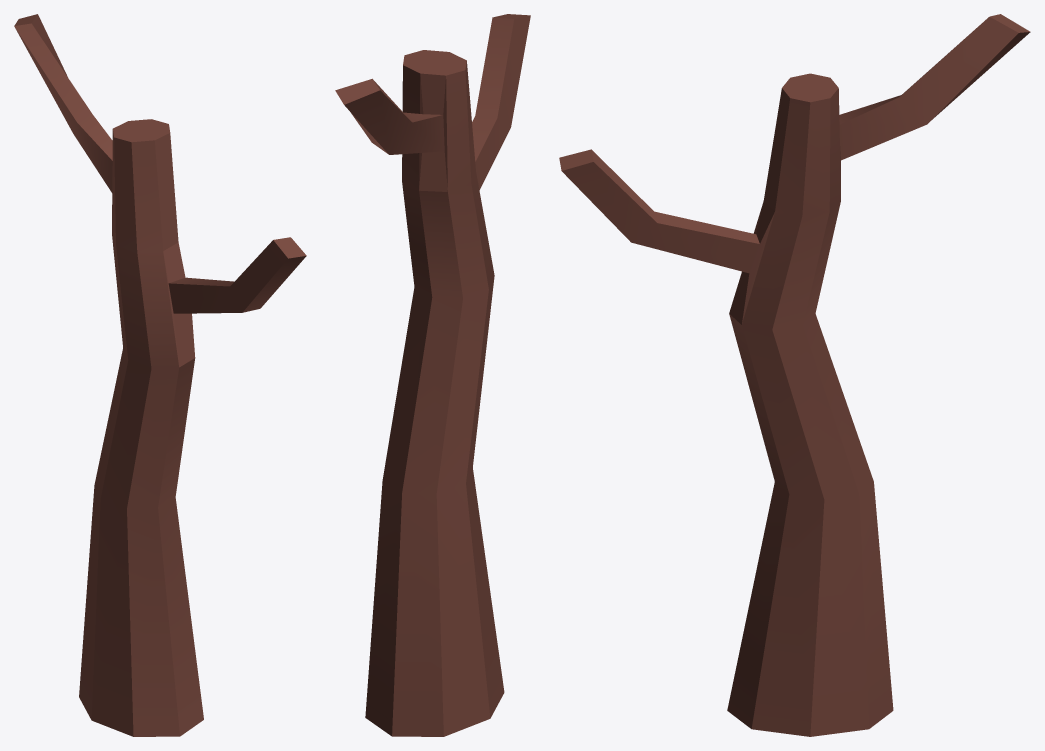
Rendered from Tree Trunk 1.fbx.
3 views of the same model, side by side, from view 1: azimuth 30°, elevation 25°; view 2: azimuth 150°, elevation 25°; view 3: azimuth 270°, elevation 25° (orthographic). The views are drawn at different scales.
Visible parts, largest first — view 1: TreeTrunk_1; view 2: TreeTrunk_1; view 3: TreeTrunk_1.
Boxes of the visible parts, left/top/right/bottom form: TreeTrunk_1: left=14, top=14, right=306, bottom=736; TreeTrunk_1: left=335, top=14, right=530, bottom=736; TreeTrunk_1: left=559, top=14, right=1030, bottom=736.
Bounding box in the file's own units: 0.7967 × 4.81 × 3.02.
Materials: 1 (1 with a texture image).
